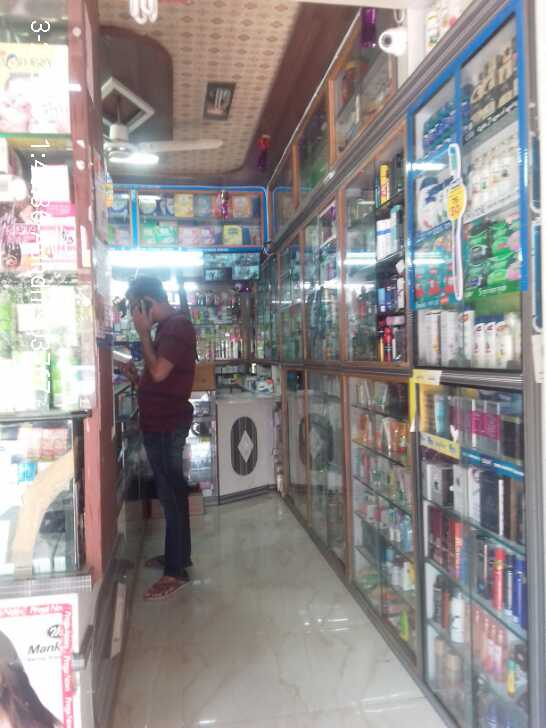vicks: (421, 96, 458, 158)
